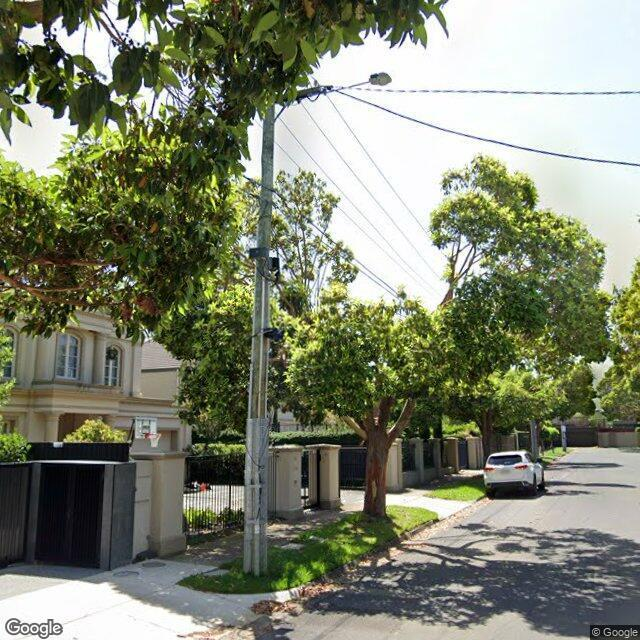crossarm: (214, 85, 325, 112)
streetlight: (325, 70, 393, 93)
timber-pole: (241, 88, 275, 574)
